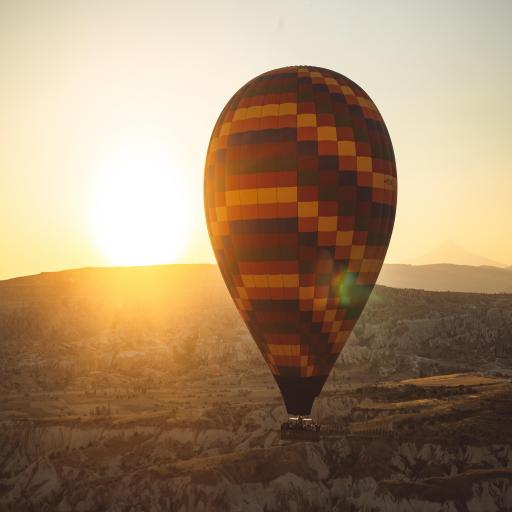hot air ballon: (203, 65, 395, 442)
